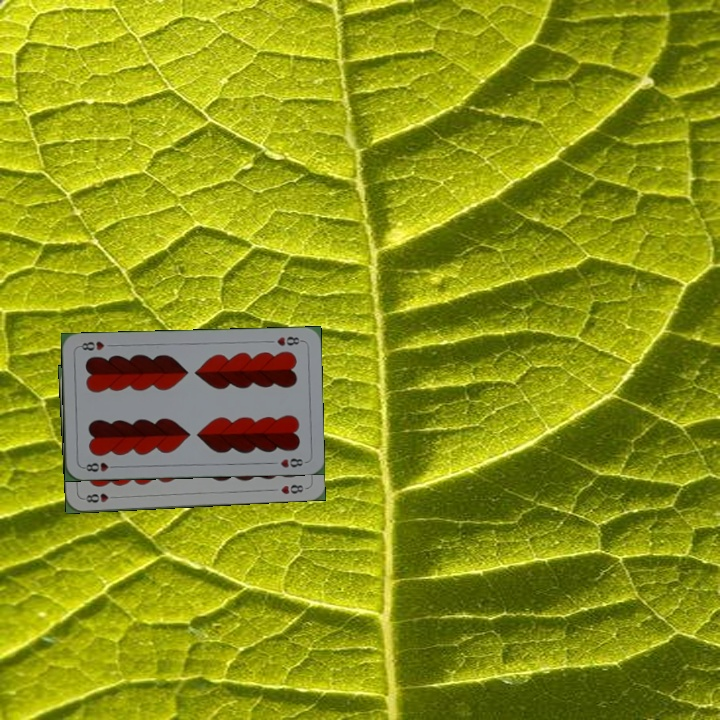H8: (79, 459, 120, 475), (80, 489, 120, 505), (273, 333, 305, 349)
